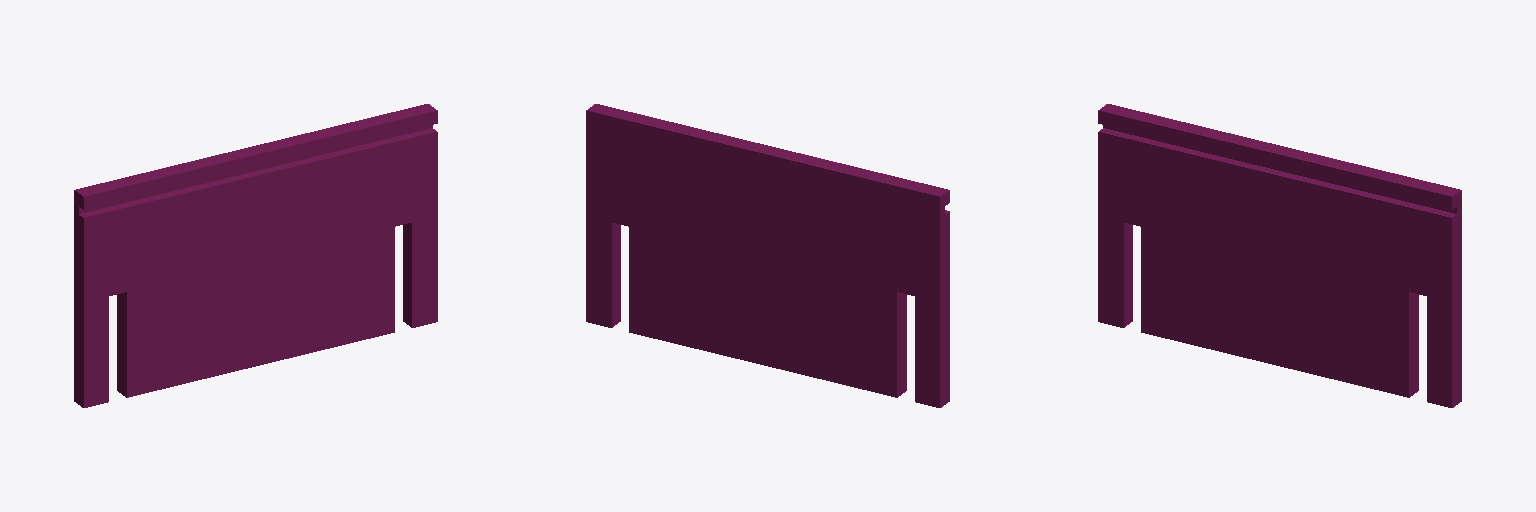
3 views of the same model, side by side, from view 1: azimuth 30°, elevation 25°; view 2: azimuth 150°, elevation 25°; view 3: azimuth 330°, elevation 25° (orthographic).
Parts seen in each view (by area): view 1: purple_part; view 2: purple_part; view 3: purple_part.
Part boxes in pixels (bbox=[...]): purple_part: bbox=[74, 104, 437, 407]; purple_part: bbox=[586, 104, 949, 407]; purple_part: bbox=[1098, 104, 1461, 407].
Size of the model in its own units: 0.14 by 0.08 by 0.0065.
Materials: 1 (1 with a texture image).